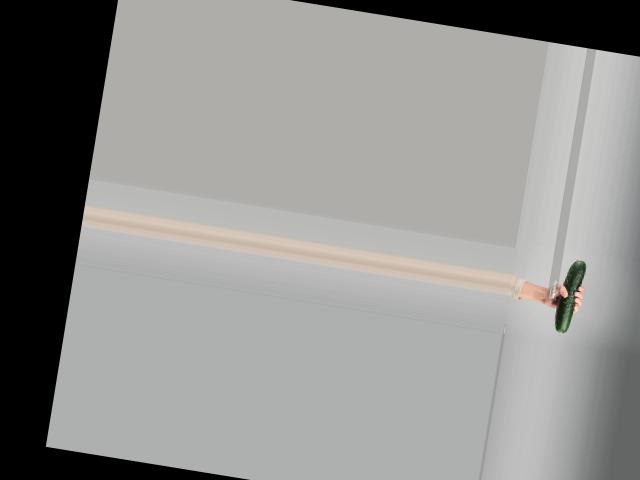cucumber: (553, 257, 587, 333)
